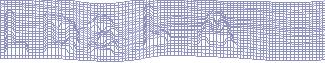3: (85, 13, 121, 58)
A: (194, 10, 238, 49)
D: (42, 11, 81, 58)
L: (141, 3, 172, 49), (2, 8, 31, 56)
